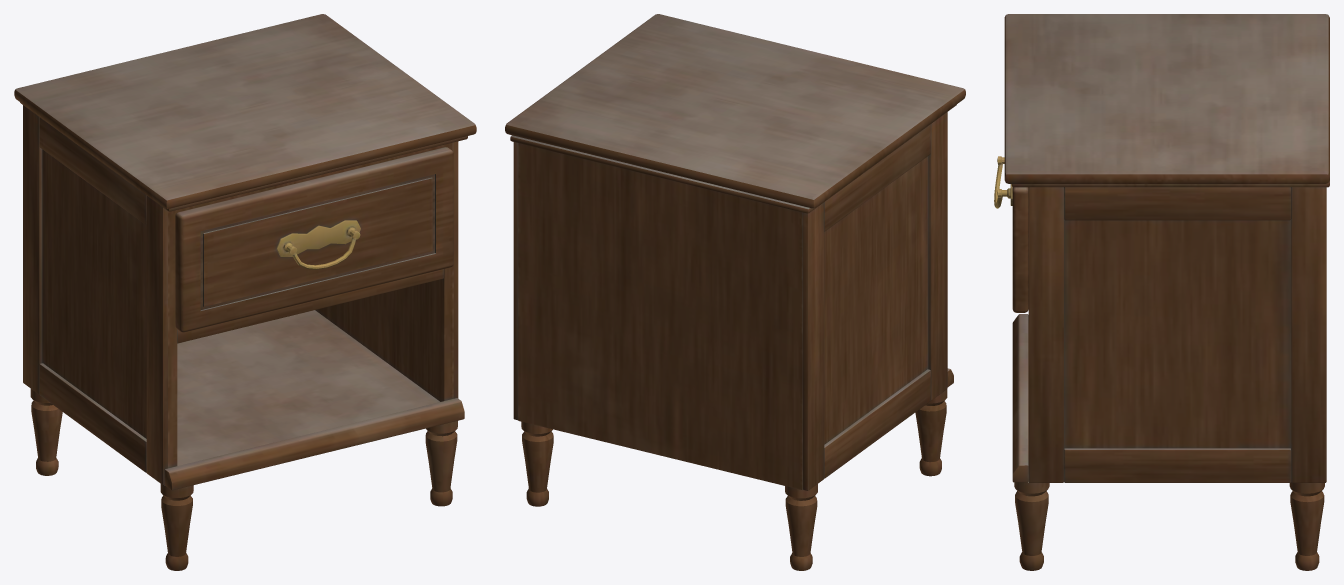
File: criado_mudo.glb
3 views of the same model, side by side, from view 1: azimuth 30°, elevation 25°; view 2: azimuth 150°, elevation 25°; view 3: azimuth 270°, elevation 25° (orthographic). The views are drawn at different scales.
Visible parts, largest first — view 1: corpo, gaveta; view 2: corpo; view 3: corpo, gaveta.
Boxes of the visible parts, x1,y1,x2,y2 form: corpo: [14, 14, 476, 570]; gaveta: [175, 147, 453, 332]; corpo: [505, 14, 965, 570]; corpo: [1004, 14, 1329, 570]; gaveta: [994, 156, 1028, 312].
Bounding box in the file's own units: 0.474 × 0.555 × 0.4169.
Materials: 1 (1 with a texture image).
